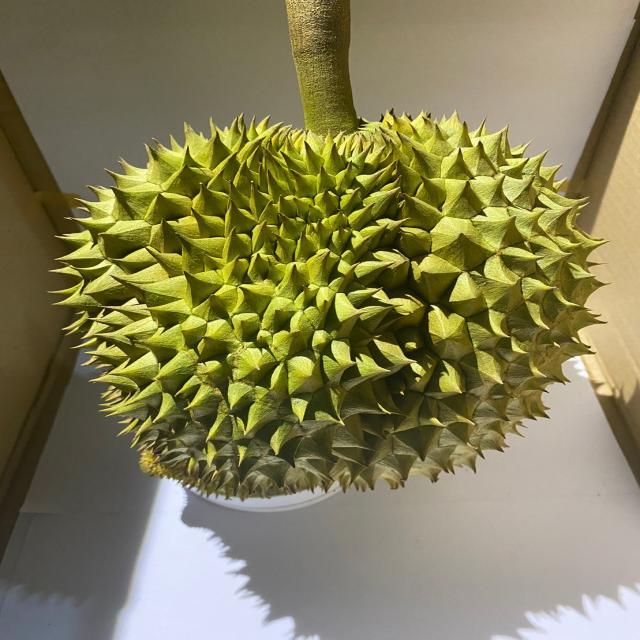immature: (49, 109, 611, 491)
